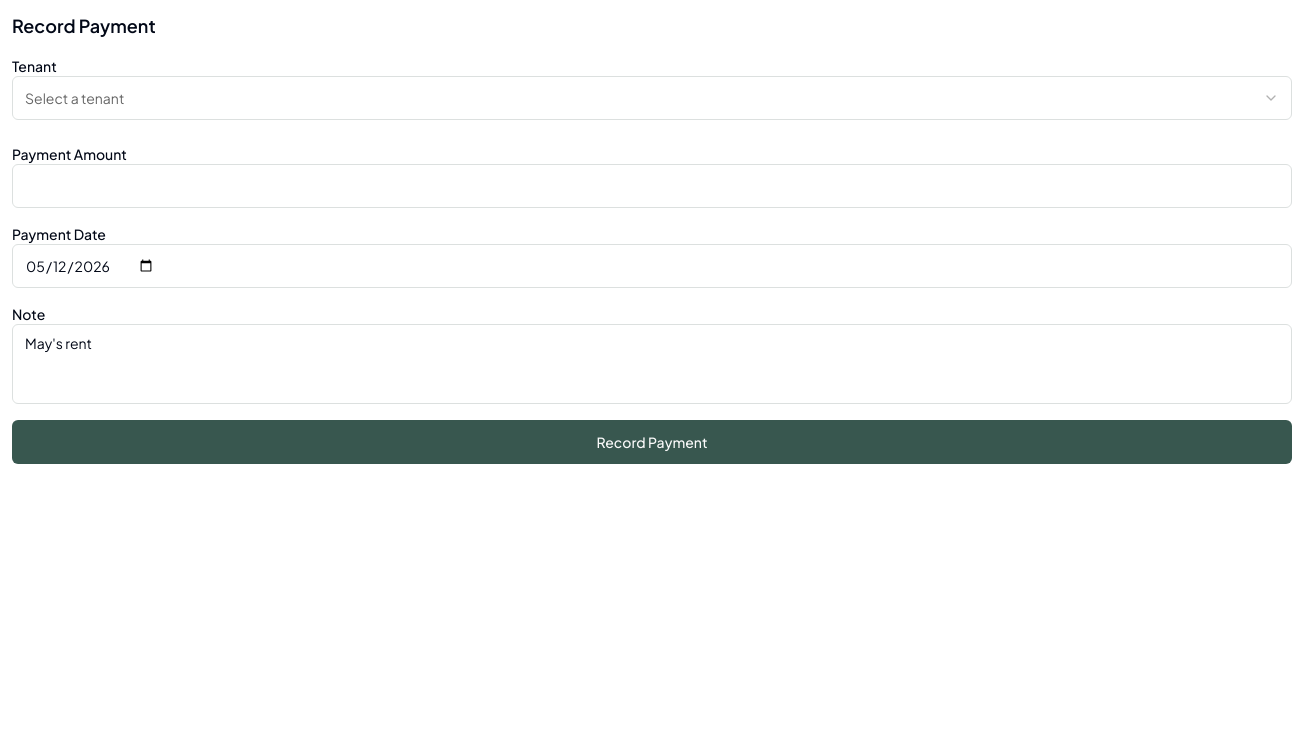
Test: PaymentForm › bad cases › shows validation errors when required fields are empty
Click the button "Record Payment". click: coordinates (652, 442)
box: [12,420,1292,464]
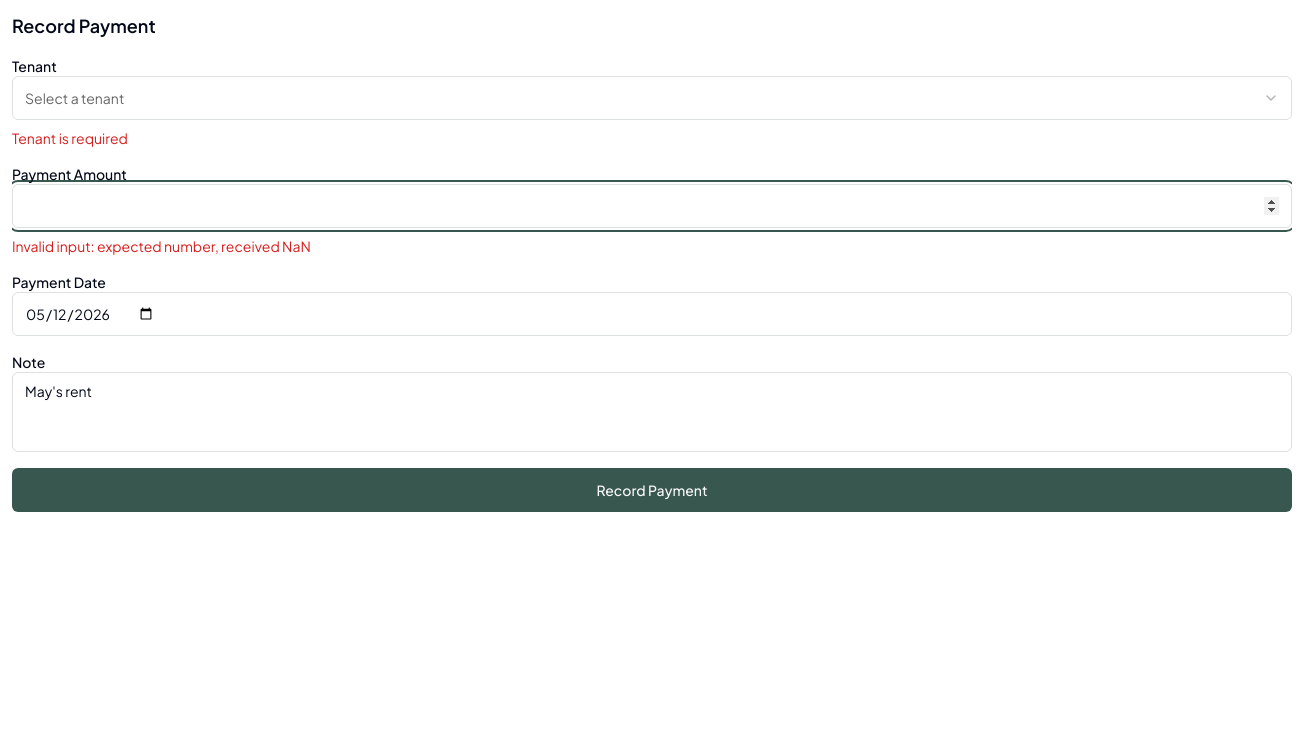
Now the text "Tenant is required" is shown, box [12,129,128,147]
